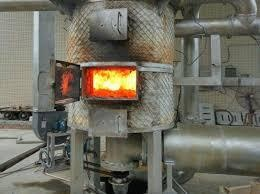fire: (90, 65, 138, 93)
